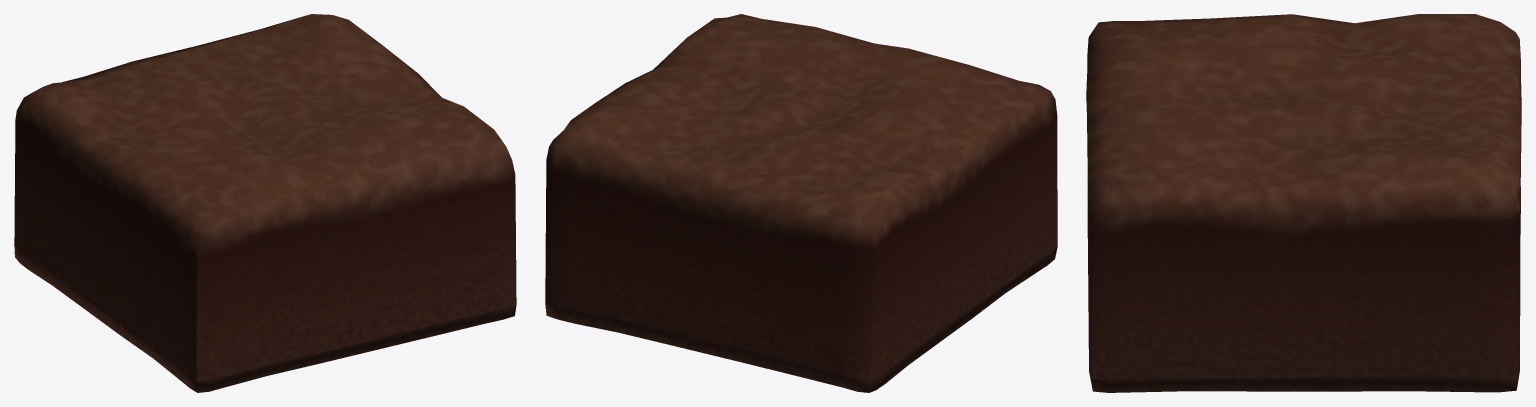
Rendered from Brownie_1.fbx.
3 views of the same model, side by side, from view 1: azimuth 30°, elevation 25°; view 2: azimuth 150°, elevation 25°; view 3: azimuth 270°, elevation 25° (orthographic). The views are drawn at different scales.
Visible parts, largest first — view 1: Brownie_1; view 2: Brownie_1; view 3: Brownie_1.
Part boxes in pixels (x1,y1,x2,y2): Brownie_1: (14,14,516,392); Brownie_1: (545,14,1057,392); Brownie_1: (1086,14,1521,392).
Bounding box in the file's own units: 32 × 17.82 × 31.99.
Materials: 1 (1 with a texture image).
